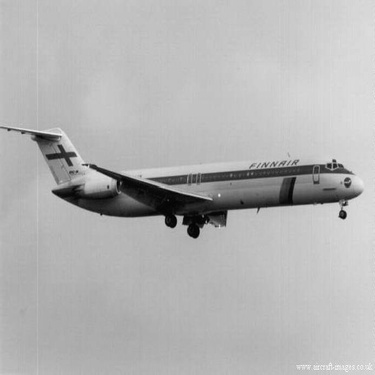airplane: (3, 111, 365, 243)
